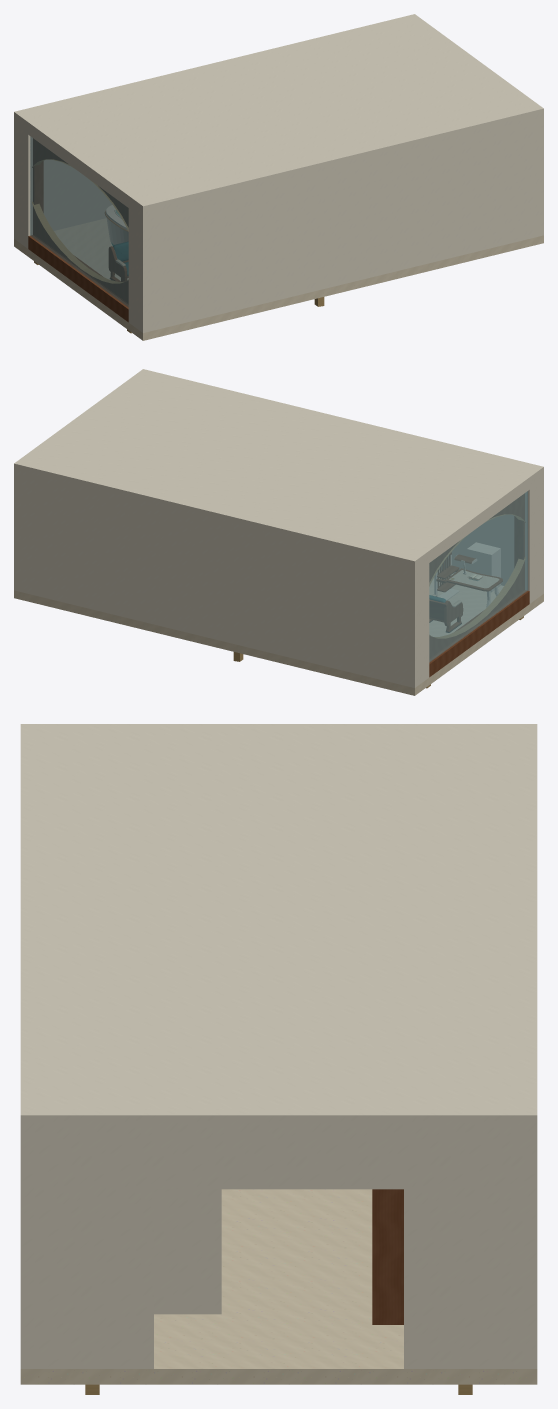
The model's file is QuietGroveBank_487_r001.glb.
The picture shows the model from 3 angles, top to bottom: view 1: azimuth 30°, elevation 25°; view 2: azimuth 150°, elevation 25°; view 3: azimuth 270°, elevation 25°; orthographic projection. The views are drawn at different scales.
Parts seen in each view (by area): view 1: QG487_Ceiling, QG487_SouthSide, QGB487_PrivateCourtGlass, QG487_RoomFloor, QG487_NorthSide, QGB487_CourtNorthPier, QGB487_CourtSouthPier, QGB487_CourtSill, QG487_OvalWindowReveal, QG487_OvalDepthReturn, QGB487_CourtHeader, QG487_QG487_ReservedRestSupport__Hollow continuous basin she (+1 smaller); view 2: QG487_Ceiling, QG487_NorthSide, QGB487_PrivateCourtGlass, QG487_RoomFloor, QG487_SouthSide, QGB487_CourtSouthPier, QGB487_CourtNorthPier, QGB487_CourtSill, QG487_OvalWindowReveal, QG487_RinseServiceMount, QG487_OvalDepthReturn, QGB487_CourtHeader (+2 smaller); view 3: QG487_Ceiling, QG487_RoomFloor, QG487_EntryShoulderNorth, QG487_EntryShoulderSouth, QG487_EntryHeader, QG487_WashEntrySide, QG487_EntryPrivacyDogleg, QG487_NorthSide, QG487_SouthSide.
Part boxes in pixels (x1=…): QG487_Ceiling: x1=14, y1=14, x2=543, y2=211; QG487_SouthSide: x1=141, y1=114, x2=543, y2=332; QGB487_PrivateCourtGlass: x1=30, y1=136, x2=128, y2=307; QG487_RoomFloor: x1=14, y1=218, x2=543, y2=340; QG487_NorthSide: x1=14, y1=117, x2=112, y2=239; QGB487_CourtNorthPier: x1=14, y1=119, x2=32, y2=248; QGB487_CourtSouthPier: x1=128, y1=201, x2=150, y2=331; QGB487_CourtSill: x1=28, y1=235, x2=128, y2=322; QG487_OvalWindowReveal: x1=34, y1=139, x2=128, y2=303; QG487_OvalDepthReturn: x1=32, y1=159, x2=128, y2=283; QGB487_CourtHeader: x1=28, y1=128, x2=128, y2=207; QG487_QG487_ReservedRestSupport__Hollow continuous basin she: x1=106, y1=205, x2=128, y2=245; QG487_Ceiling: x1=14, y1=369, x2=543, y2=566; QG487_NorthSide: x1=14, y1=469, x2=416, y2=687; QGB487_PrivateCourtGlass: x1=429, y1=491, x2=527, y2=662; QG487_RoomFloor: x1=14, y1=570, x2=543, y2=695; QG487_SouthSide: x1=439, y1=472, x2=543, y2=594; QGB487_CourtSouthPier: x1=525, y1=474, x2=541, y2=603; QGB487_CourtNorthPier: x1=407, y1=556, x2=429, y2=687; QGB487_CourtSill: x1=429, y1=590, x2=529, y2=677; QG487_OvalWindowReveal: x1=429, y1=494, x2=523, y2=658; QG487_RinseServiceMount: x1=467, y1=542, x2=500, y2=591; QG487_OvalDepthReturn: x1=429, y1=514, x2=525, y2=638; QGB487_CourtHeader: x1=429, y1=483, x2=529, y2=562; QG487_Ceiling: x1=20, y1=724, x2=537, y2=1125; QG487_RoomFloor: x1=20, y1=1189, x2=537, y2=1384; QG487_EntryShoulderNorth: x1=404, y1=1125, x2=528, y2=1368; QG487_EntryShoulderSouth: x1=29, y1=1125, x2=153, y2=1368; QG487_EntryHeader: x1=150, y1=1125, x2=407, y2=1189; QG487_WashEntrySide: x1=154, y1=1189, x2=221, y2=1314; QG487_EntryPrivacyDogleg: x1=372, y1=1189, x2=403, y2=1324; QG487_NorthSide: x1=528, y1=1125, x2=537, y2=1368; QG487_SouthSide: x1=20, y1=1125, x2=29, y2=1368.
Bounding box in the file's own units: 12.9 × 4.91 × 7.2.
Materials: 61 (43 with a texture image).
